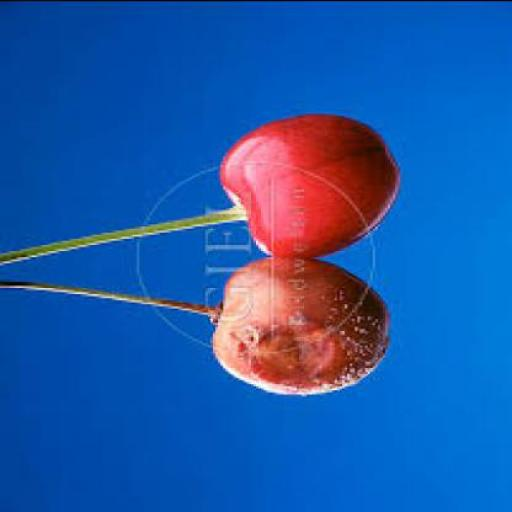biodegradable: (218, 113, 400, 256), (211, 254, 390, 397)
